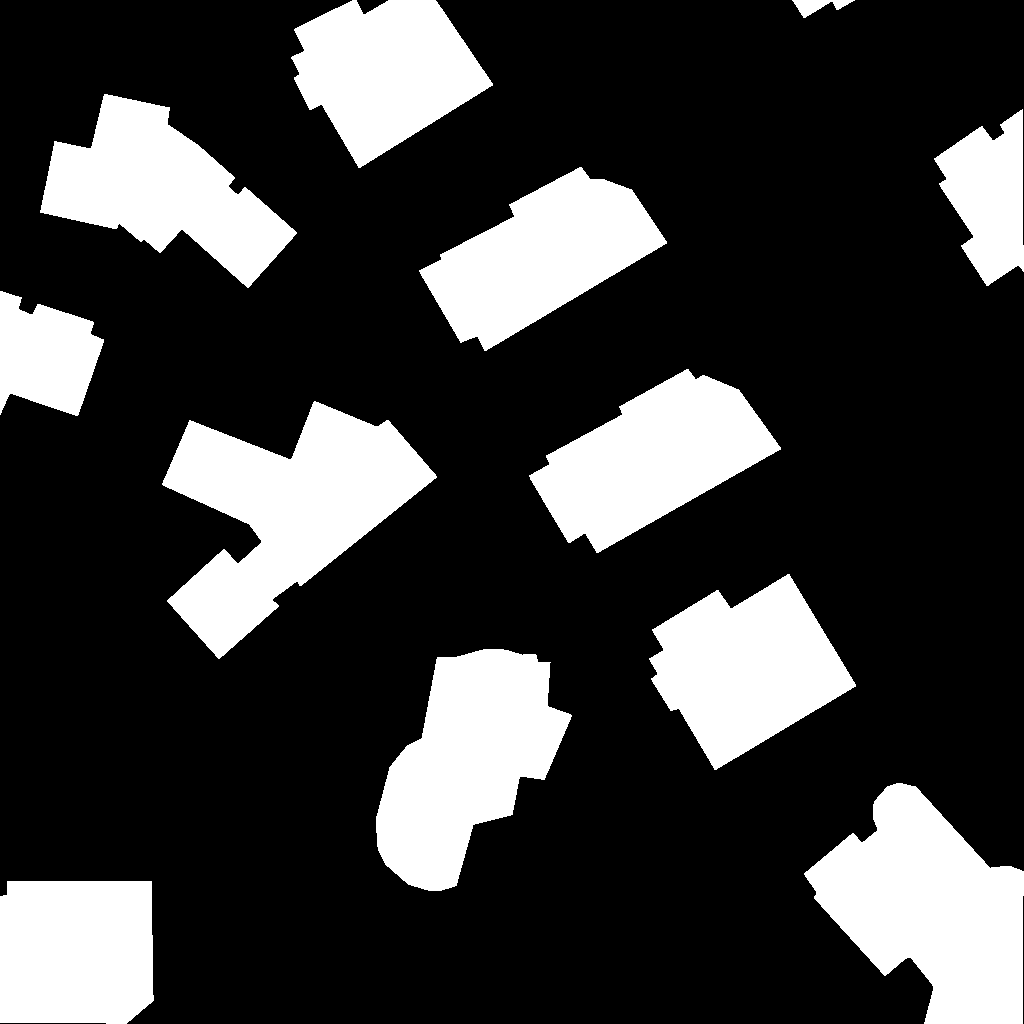building: (162, 401, 438, 660), (804, 783, 1024, 1024), (40, 94, 298, 289), (375, 649, 573, 891), (529, 369, 782, 554), (419, 167, 668, 352), (649, 574, 857, 771), (291, 0, 494, 169), (0, 881, 154, 1024), (934, 109, 1024, 287), (0, 291, 105, 417), (792, 0, 856, 19)
